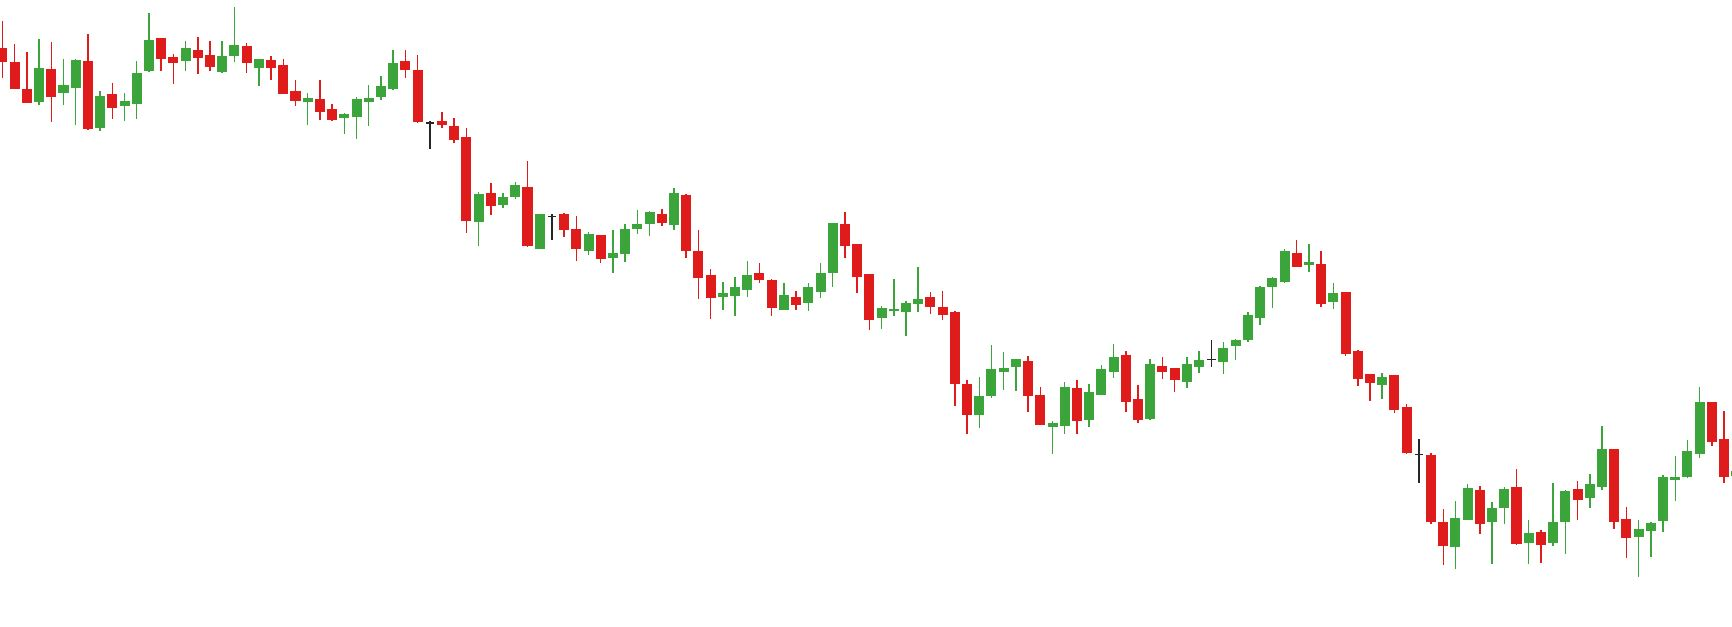buy: (1524, 492, 1646, 580), (959, 375, 1071, 463)
